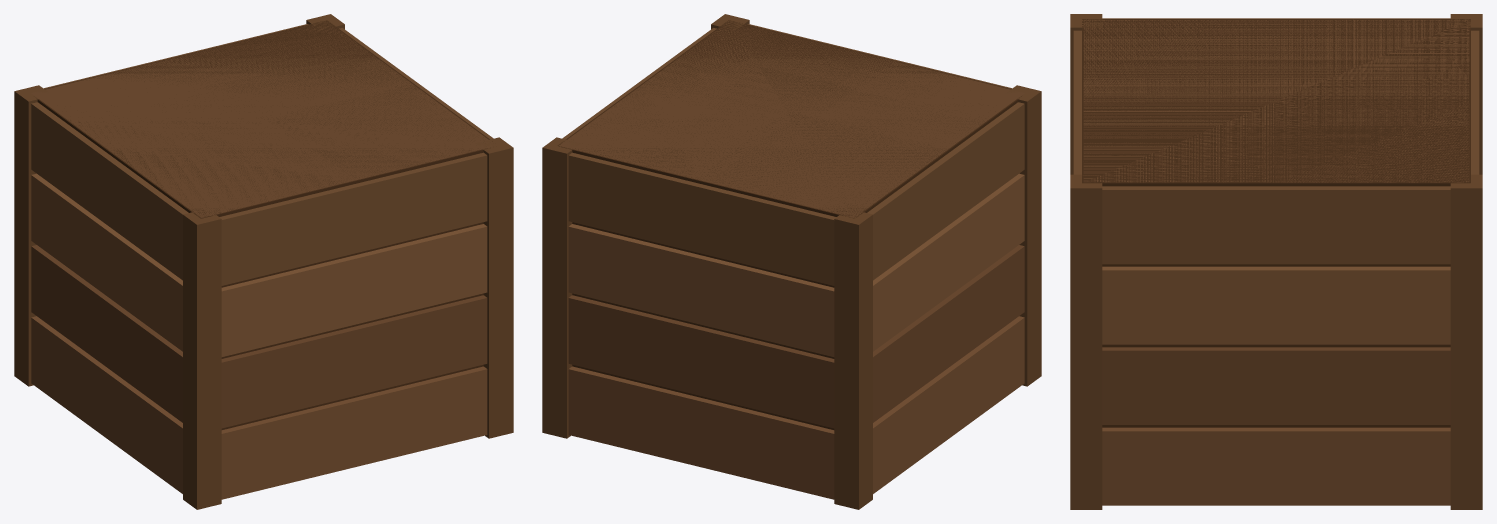
The model's file is crate.glb.
The picture shows the model from 3 angles, left to right: view 1: azimuth 30°, elevation 25°; view 2: azimuth 150°, elevation 25°; view 3: azimuth 270°, elevation 25°; orthographic projection. The views are drawn at different scales.
Parts seen in each view (by area): view 1: crate; view 2: crate; view 3: crate.
Part boxes in pixels (x1,y1,x2,y2): crate: (14, 14, 513, 509); crate: (542, 14, 1041, 509); crate: (1070, 14, 1482, 509).
Bounding box in the file's own units: 0.488 × 0.42 × 0.488.
